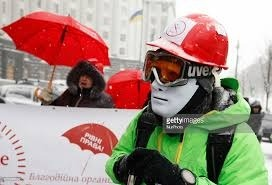helmet: (144, 11, 235, 72)
person with partial safety: (146, 13, 243, 123)
